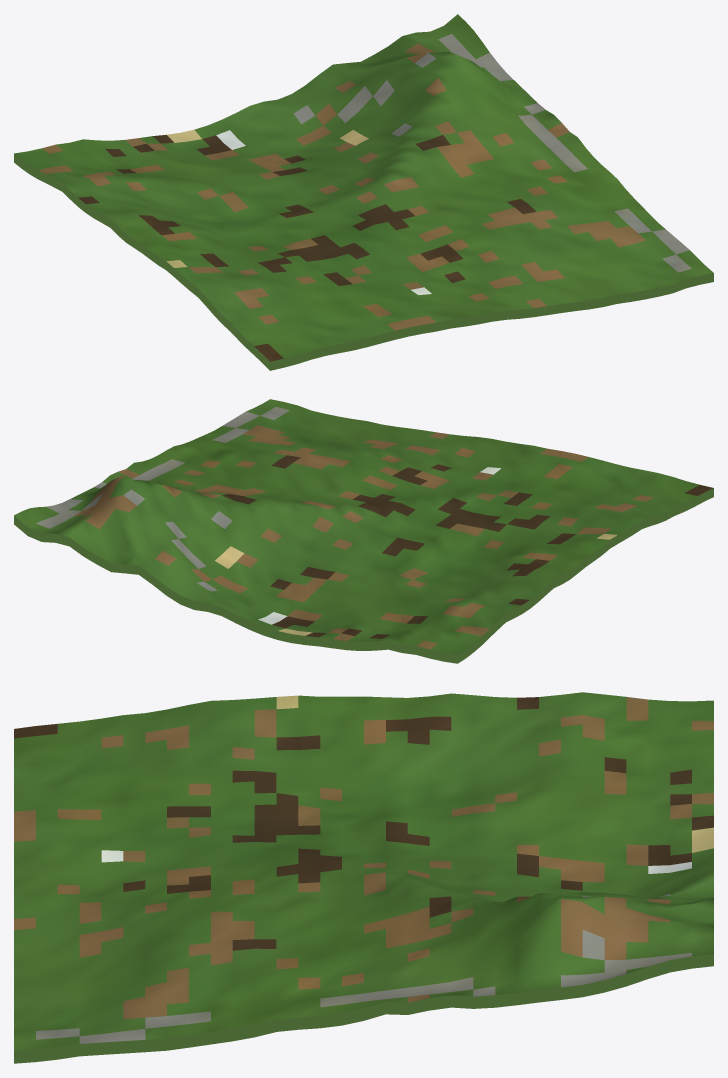
Rendered from chunk_3_3_lod1.glb.
3 views of the same model, one above another, from view 1: azimuth 30°, elevation 25°; view 2: azimuth 150°, elevation 25°; view 3: azimuth 270°, elevation 25° (orthographic). The views are drawn at different scales.
Parts seen in each view (by area): view 1: Surface_Grass, Surface_Dirt, Skirt, Surface_Mud, Surface_Gravel, Surface_Sand; view 2: Surface_Grass, Surface_Dirt, Skirt, Surface_Mud, Surface_Gravel, Surface_Sand; view 3: Surface_Grass, Surface_Dirt, Surface_Mud, Skirt, Surface_Gravel, Surface_Sand, Surface_Snow.
Boxes of the visible parts, x1,y1,x2,y2 form: Surface_Grass: [14, 14, 713, 358]; Surface_Dirt: [38, 43, 645, 330]; Skirt: [14, 154, 713, 370]; Surface_Mud: [78, 134, 536, 361]; Surface_Gravel: [293, 34, 691, 272]; Surface_Sand: [166, 129, 368, 267]; Surface_Grass: [14, 399, 699, 654]; Surface_Dirt: [74, 425, 653, 649]; Skirt: [14, 488, 713, 663]; Surface_Mud: [221, 455, 713, 638]; Surface_Gravel: [36, 407, 289, 591]; Surface_Sand: [215, 534, 616, 635]; Surface_Grass: [14, 692, 713, 1051]; Surface_Dirt: [14, 697, 713, 1019]; Surface_Mud: [14, 697, 713, 950]; Skirt: [14, 954, 713, 1063]; Surface_Gravel: [36, 894, 691, 1043]; Surface_Sand: [276, 695, 713, 852]; Surface_Snow: [101, 850, 691, 873].
Size of the model in its own units: 256 by 52.42 by 256.
